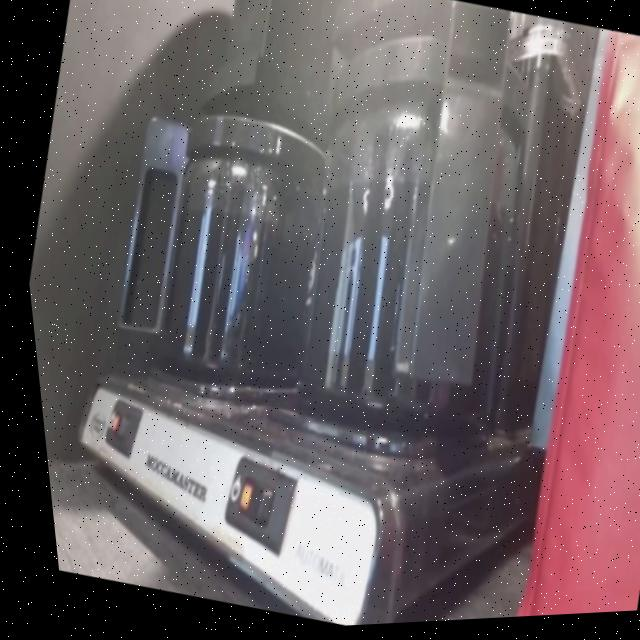coffee: (267, 125, 541, 447), (132, 163, 333, 394)
